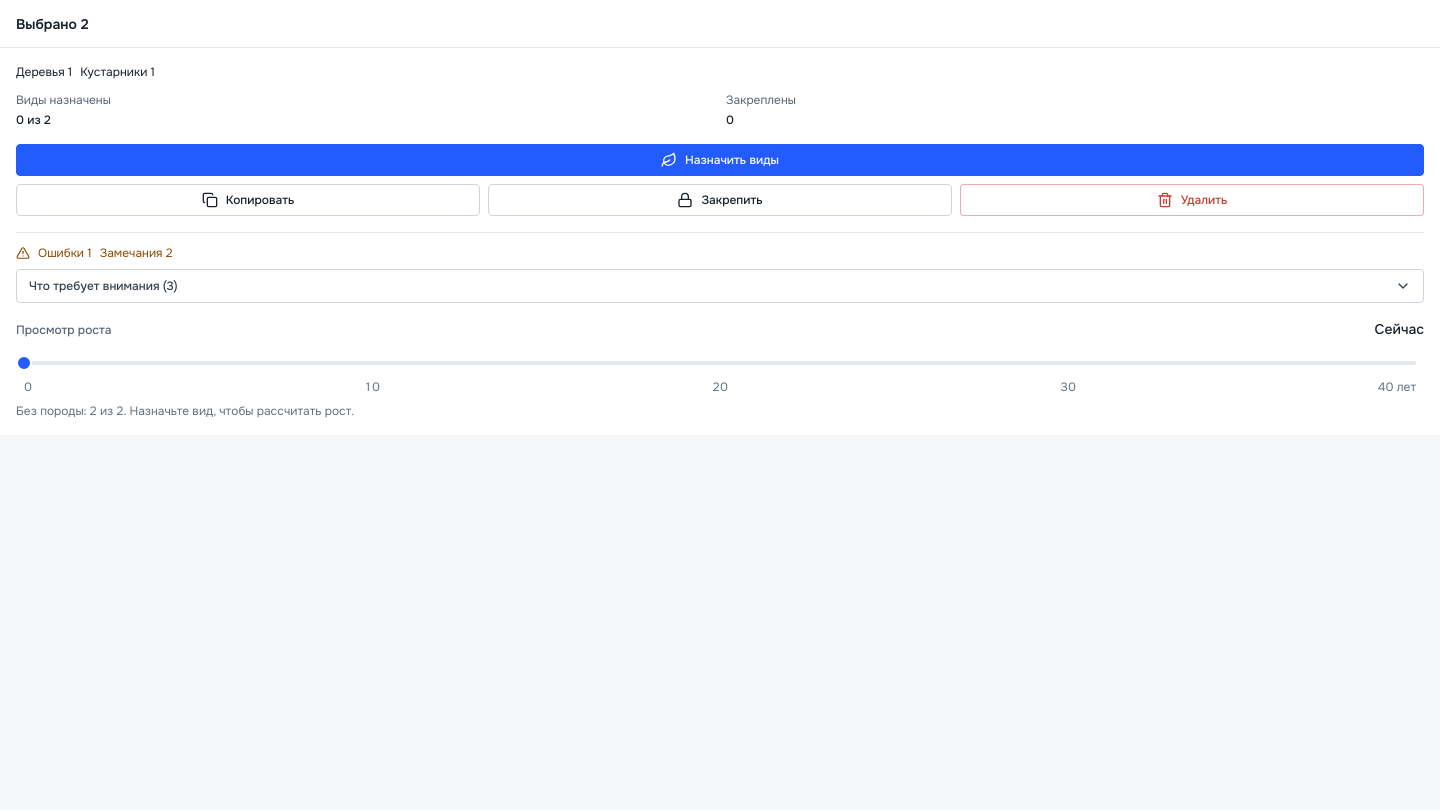
Test: GroupInspector › includes related selected IDs without showing unrelated issues
This screenshot has width=1440, height=810.
Check: the message named "Ошибки: 1. Замечания: 2." is shown, box [16, 245, 172, 261]
What coordinates should you click on to do the following:
click the button "Что требует внимания (3)"
I would click on:
 (103, 286)
Its box is [17, 270, 1423, 302].
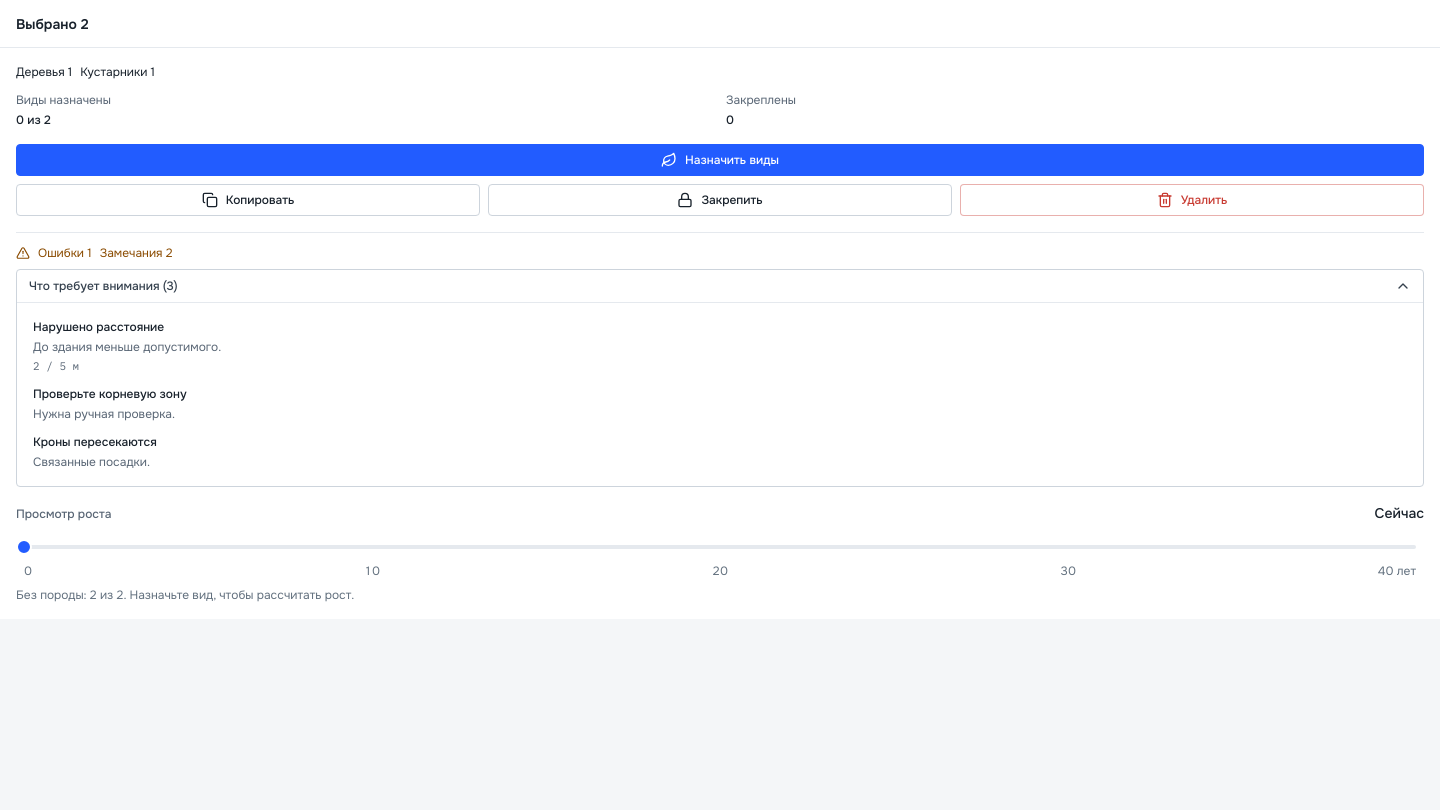
Check: the text "Кроны пересекаются" is shown, box [33, 434, 157, 450]
